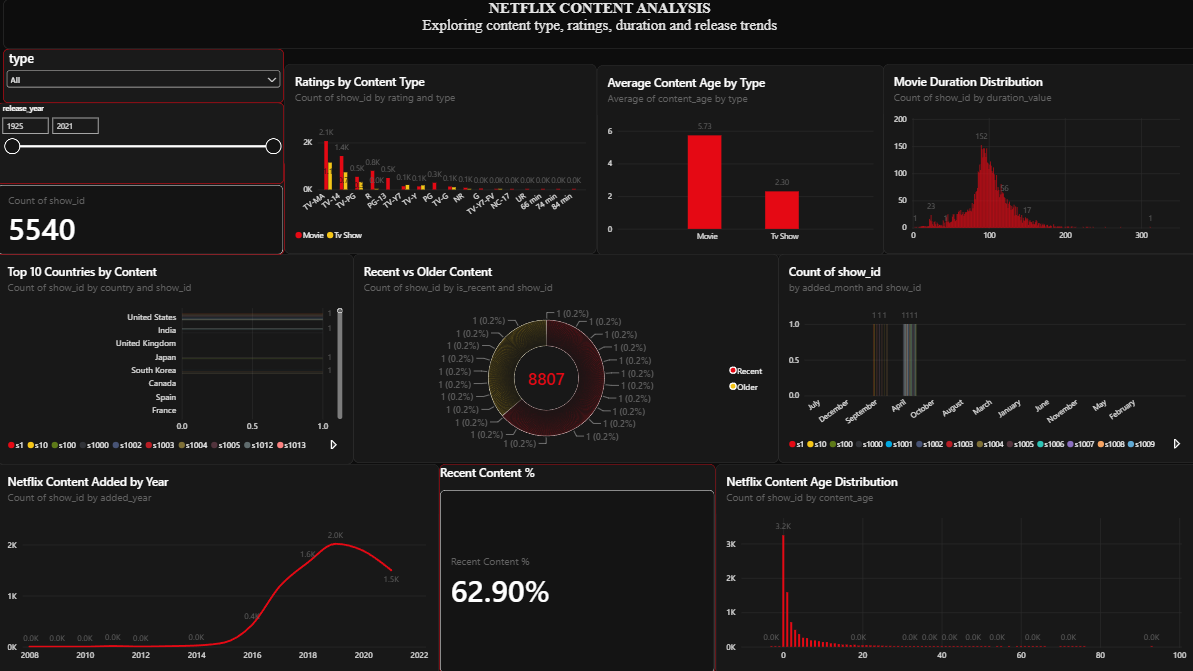

The page's visual inventory and layout, read from the dashboard file:
{"tool":"powerbi","page":{"name":"Content Analysis","canvas":[1920,1080],"ordinal":1},"visuals":[{"type":"textbox","box":[10.9,0,1909.2,79.6],"z":0},{"type":"slicer","fields":{"Values":["netflix_cleaned.type"]},"box":[10.3,80.3,448.7,86.4],"z":1000},{"type":"clusteredColumnChart","title":"Ratings by Content Type","fields":{"Category":["netflix_cleaned.rating"],"Series":["netflix_cleaned.type"],"Y":["CountNonNull(netflix_cleaned.show_id)"]},"box":[459.7,105,499.5,304],"z":2000},{"type":"clusteredColumnChart","title":"Average Content Age by Type","fields":{"Category":["netflix_cleaned.type"],"Y":["Avg(netflix_cleaned.content_age)"]},"box":[959.1,106.8,459.7,304],"z":3000},{"type":"clusteredColumnChart","title":"Movie Duration Distribution","fields":{"Category":["netflix_cleaned.duration_value"],"Y":["CountNonNull(netflix_cleaned.show_id)"]},"box":[1418.8,105,501.3,304],"z":4000},{"type":"clusteredBarChart","title":"Top 10 Countries by Content","fields":{"Category":["netflix_cleaned.country"],"Series":["netflix_cleaned.show_id"],"Y":["CountNonNull(netflix_cleaned.show_id)"]},"box":[0,409,570,336.6],"z":5000},{"type":"lineChart","title":"Netflix Content Added by Year","fields":{"Category":["netflix_cleaned.added_year"],"Y":["CountNonNull(netflix_cleaned.show_id)"]},"box":[0,743.8,707.6,336.6],"z":5001},{"type":"donutChart","title":"Recent vs Older Content","fields":{"Category":["netflix_cleaned.is_recent"],"Series":["netflix_cleaned.show_id"],"Y":["CountNonNull(netflix_cleaned.show_id)"]},"box":[570,409,680.4,334.8],"z":5002},{"type":"clusteredColumnChart","fields":{"Category":["netflix_cleaned.added_month"],"Series":["netflix_cleaned.show_id"],"Y":["CountNonNull(netflix_cleaned.show_id)"]},"box":[1250.5,409,669.6,334.8],"z":5003},{"type":"cardVisual","title":"Recent Netflix Titles","fields":{"Data":["CountNonNull(netflix_cleaned.show_id)"]},"box":[0,257,459.7,153.8],"z":5004},{"type":"cardVisual","title":"Recent Content %","fields":{"Data":["netflix_cleaned.Recent Content %"]},"box":[707.6,743.8,441.6,336.6],"z":5005},{"type":"clusteredColumnChart","title":"Netflix Content Age Distribution","fields":{"Category":["netflix_cleaned.content_age"],"Y":["CountNonNull(netflix_cleaned.show_id)"]},"box":[1149.1,743.8,770.9,336.6],"z":5006},{"type":"slicer","fields":{"Values":["netflix_cleaned.release_year"]},"box":[0,166.7,459,129.7],"z":5007}]}

Visuals, with their boxes in screenshot pixels (x1, y1, x2, y2), scaled from the page's 1920x1080 canvas onto the 1193x671 screenshot:
textbox: [7, 0, 1192, 49]
slicer - netflix_cleaned.type: [6, 50, 285, 104]
"Ratings by Content Type" clusteredColumnChart: [286, 65, 596, 254]
"Average Content Age by Type" clusteredColumnChart: [596, 66, 882, 255]
"Movie Duration Distribution" clusteredColumnChart: [882, 65, 1192, 254]
"Top 10 Countries by Content" clusteredBarChart: [0, 254, 354, 463]
"Netflix Content Added by Year" lineChart: [0, 462, 440, 670]
"Recent vs Older Content" donutChart: [354, 254, 777, 462]
clusteredColumnChart - netflix_cleaned.added_month x netflix_cleaned.show_id: [777, 254, 1192, 462]
"Recent Netflix Titles" cardVisual: [0, 160, 286, 255]
"Recent Content %" cardVisual: [440, 462, 714, 670]
"Netflix Content Age Distribution" clusteredColumnChart: [714, 462, 1192, 670]
slicer - netflix_cleaned.release_year: [0, 104, 285, 184]
